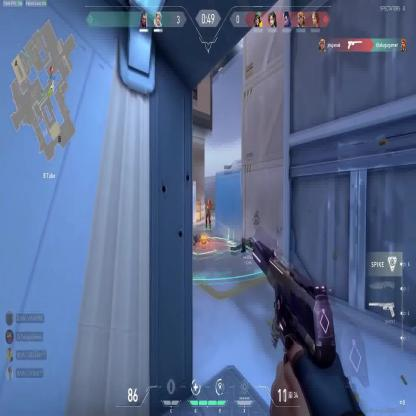enemy: (205, 198, 212, 228)
enemy_head: (208, 198, 211, 204)
